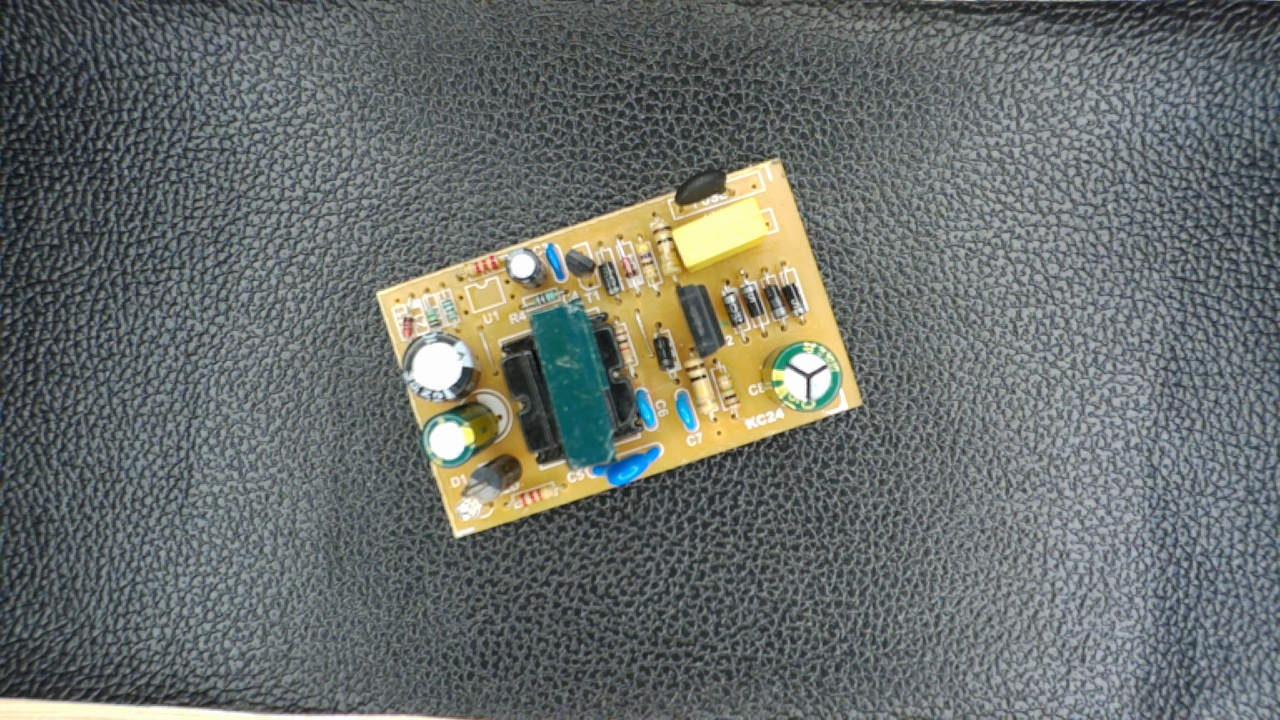fuse: (663, 165, 743, 218)
hv_capacitor: (755, 342, 848, 414)
mov: (585, 443, 671, 488)
